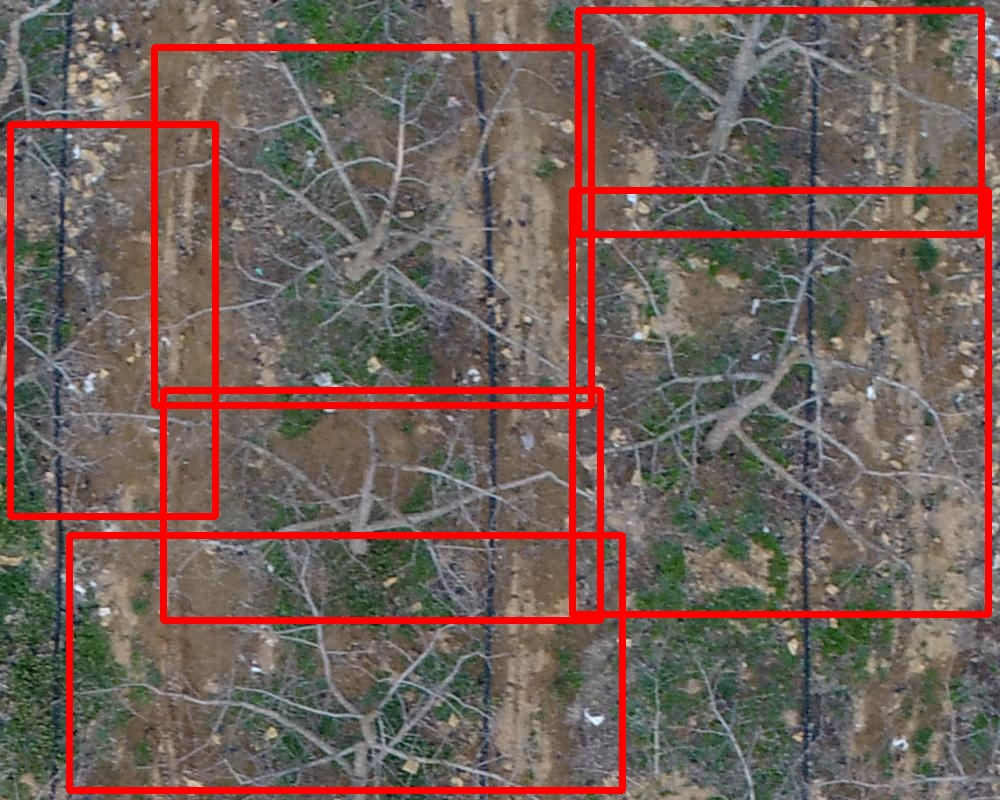apple: (572, 190, 988, 614), (154, 47, 591, 405), (69, 535, 622, 790), (163, 390, 600, 620), (578, 10, 981, 234), (10, 124, 215, 516)
